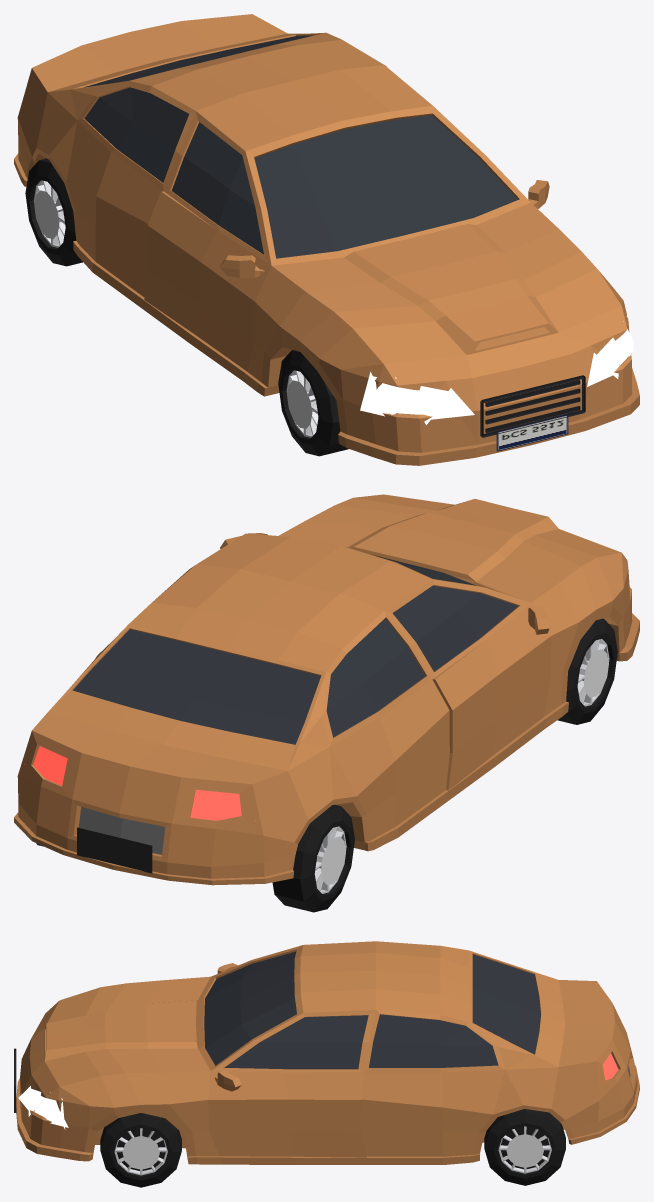
The model's file is sports.glb.
3 renders of one model, top to bottom at view 1: azimuth 30°, elevation 25°; view 2: azimuth 150°, elevation 25°; view 3: azimuth 270°, elevation 25°, orthographic. The views are drawn at different scales.
Parts seen in each view (by area): view 1: body, hood, door_FR, bumper_front, wheel_FR, headlight_R (×2), wheel_RR, grille, hubcap (×2), plate, headlight_L (×2); view 2: body, door_FR, hood, bumper_rear, wheel_RR, wheel_FR, plate, hubcap (×2), taillight_R, taillight_L; view 3: body, door_FL, hood, wheel_RL, wheel_FL, bumper_front, hubcap (×2), bumper_rear, headlight_L.
Boxes of the visible parts, x1=… form: body: x1=14, y1=14, x2=629, y2=447; hood: x1=255, y1=202, x2=627, y2=385; door_FR: x1=66, y1=81, x2=279, y2=396; bumper_front: x1=347, y1=347, x2=639, y2=465; wheel_FR: x1=278, y1=350, x2=348, y2=456; headlight_R (×2): x1=360, y1=372, x2=474, y2=424; wheel_RR: x1=25, y1=158, x2=82, y2=266; grille: x1=480, y1=375, x2=585, y2=437; hubcap (×2): x1=34, y1=190, x2=312, y2=428; plate: x1=496, y1=414, x2=568, y2=451; headlight_L (×2): x1=587, y1=315, x2=634, y2=386; body: x1=14, y1=533, x2=636, y2=883; door_FR: x1=326, y1=579, x2=578, y2=851; hood: x1=278, y1=494, x2=623, y2=635; bumper_rear: x1=14, y1=786, x2=265, y2=885; wheel_RR: x1=272, y1=804, x2=354, y2=912; wheel_FR: x1=557, y1=618, x2=617, y2=724; plate: x1=77, y1=827, x2=152, y2=873; hubcap (×2): x1=321, y1=649, x2=608, y2=885; taillight_R: x1=190, y1=789, x2=255, y2=821; taillight_L: x1=24, y1=746, x2=67, y2=785; body: x1=22, y1=941, x2=632, y2=1161; door_FL: x1=169, y1=1010, x2=504, y2=1164; hood: x1=29, y1=976, x2=210, y2=1107; wheel_RL: x1=484, y1=1109, x2=565, y2=1185; wheel_FL: x1=100, y1=1113, x2=181, y2=1187; bumper_front: x1=16, y1=1056, x2=79, y2=1156; hubcap (×2): x1=122, y1=1134, x2=543, y2=1169; bumper_rear: x1=598, y1=1039, x2=639, y2=1136; headlight_L: x1=18, y1=1086, x2=68, y2=1127.
Bounding box in the file's own units: 1.93 × 1.24 × 4.26.
13 materials, 1 textured.
